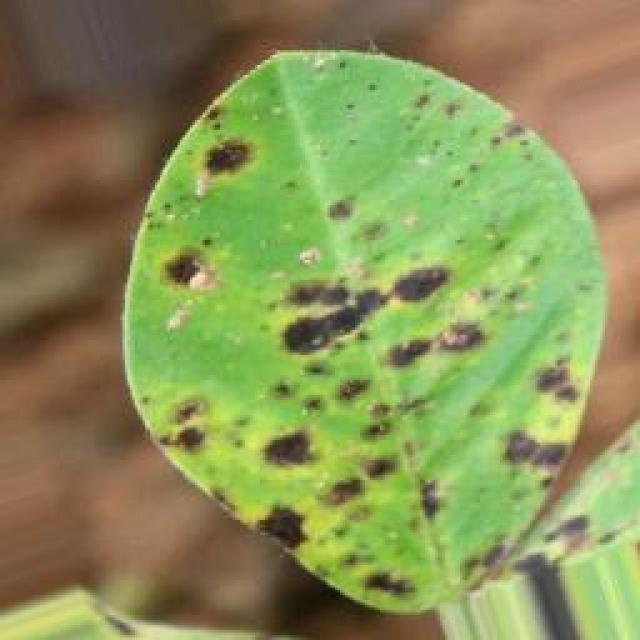Yellowish: (130, 58, 584, 620)
